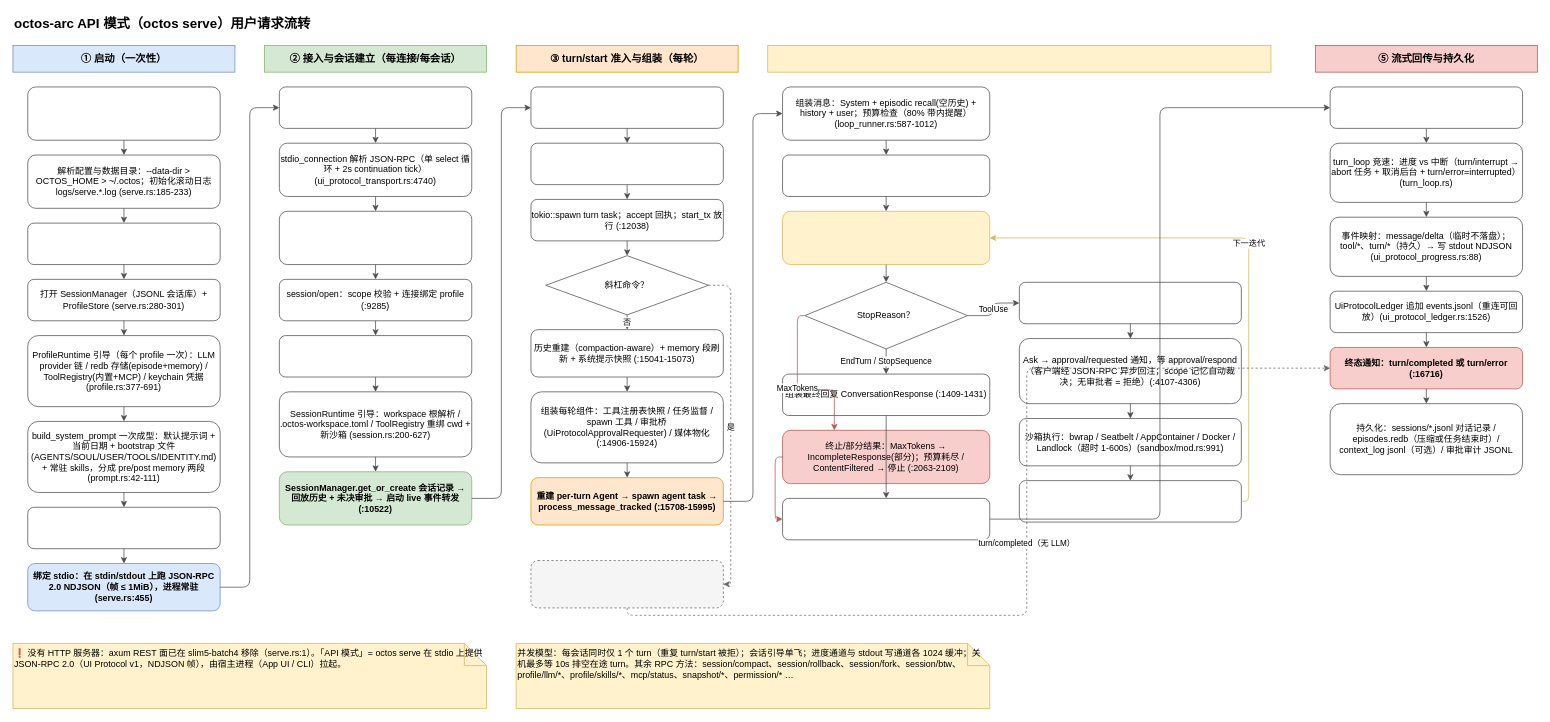
Image size: 1550x722. Some labels were removed from this diagram. Each missing label, with the box of its shape:
client_hello 能力协商 → route_rpc_command → UiCommand 分发（30+ RPC 方法）(:9041/:9094): (279, 211, 472, 265)
done / error 事件写入 progress channel（容量 1024）(:16526): (782, 498, 990, 540)
LLM 流式调用 chat_stream（重试 ≤3，TTFT/空转看门狗，OCTOS_CONTEXT_LOG 记账）(llm_call.rs:37-99): (782, 211, 990, 265)
octos serve（feature=api 默认开启） 建多线程 tokio runtime (main.rs:61 → serve.rs:173): (27, 86, 220, 140)
progress channel 逐条接收事件 (BoundedChannelReporter): (1329, 86, 1523, 128)
SessionRuntimeCache.get_or_init（缓存未命中 → 单飞 semaphore 引导）(:10420): (279, 335, 472, 377)
SessionRuntimeCache：LRU 64 / TTL 30min，单飞引导信号量 (cache.rs:100-144): (27, 507, 220, 549)
turn/start：校验文本输入与 profile 运行时 (:11910): (530, 86, 723, 128)
④ Agent 循环（octos-agent，逐迭代）: (767, 45, 1271, 72)
单 turn 门：active_turns 已占用 → invalid_request 拒绝 (:12062): (530, 142, 723, 185)
压缩预检 / turn 压缩（必要时重写历史）(compaction.rs:179/229): (782, 154, 990, 196)
客户端（App UI / CLI 宿主）经 stdin 写入 NDJSON 请求帧: (279, 86, 472, 128)
工具策略检查：Deny / Ask / Allow (shell.rs:690-763): (1019, 282, 1241, 324)
数据目录写锁 flock (.octos-serve.lock)，单写者 (serve.rs:252): (27, 222, 220, 265)
斜杠短路：持久化固定应答，turn 直接结束（不走 LLM）(ws_slash.rs:108): (530, 560, 723, 608)
结果 Tool 消息按序 merge 追加回 messages (:2748): (1019, 480, 1241, 522)
